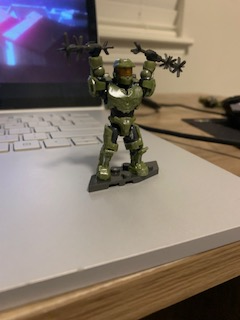chief: (86, 40, 158, 179)
spartan: (84, 38, 156, 177)
up: (86, 42, 158, 115)
